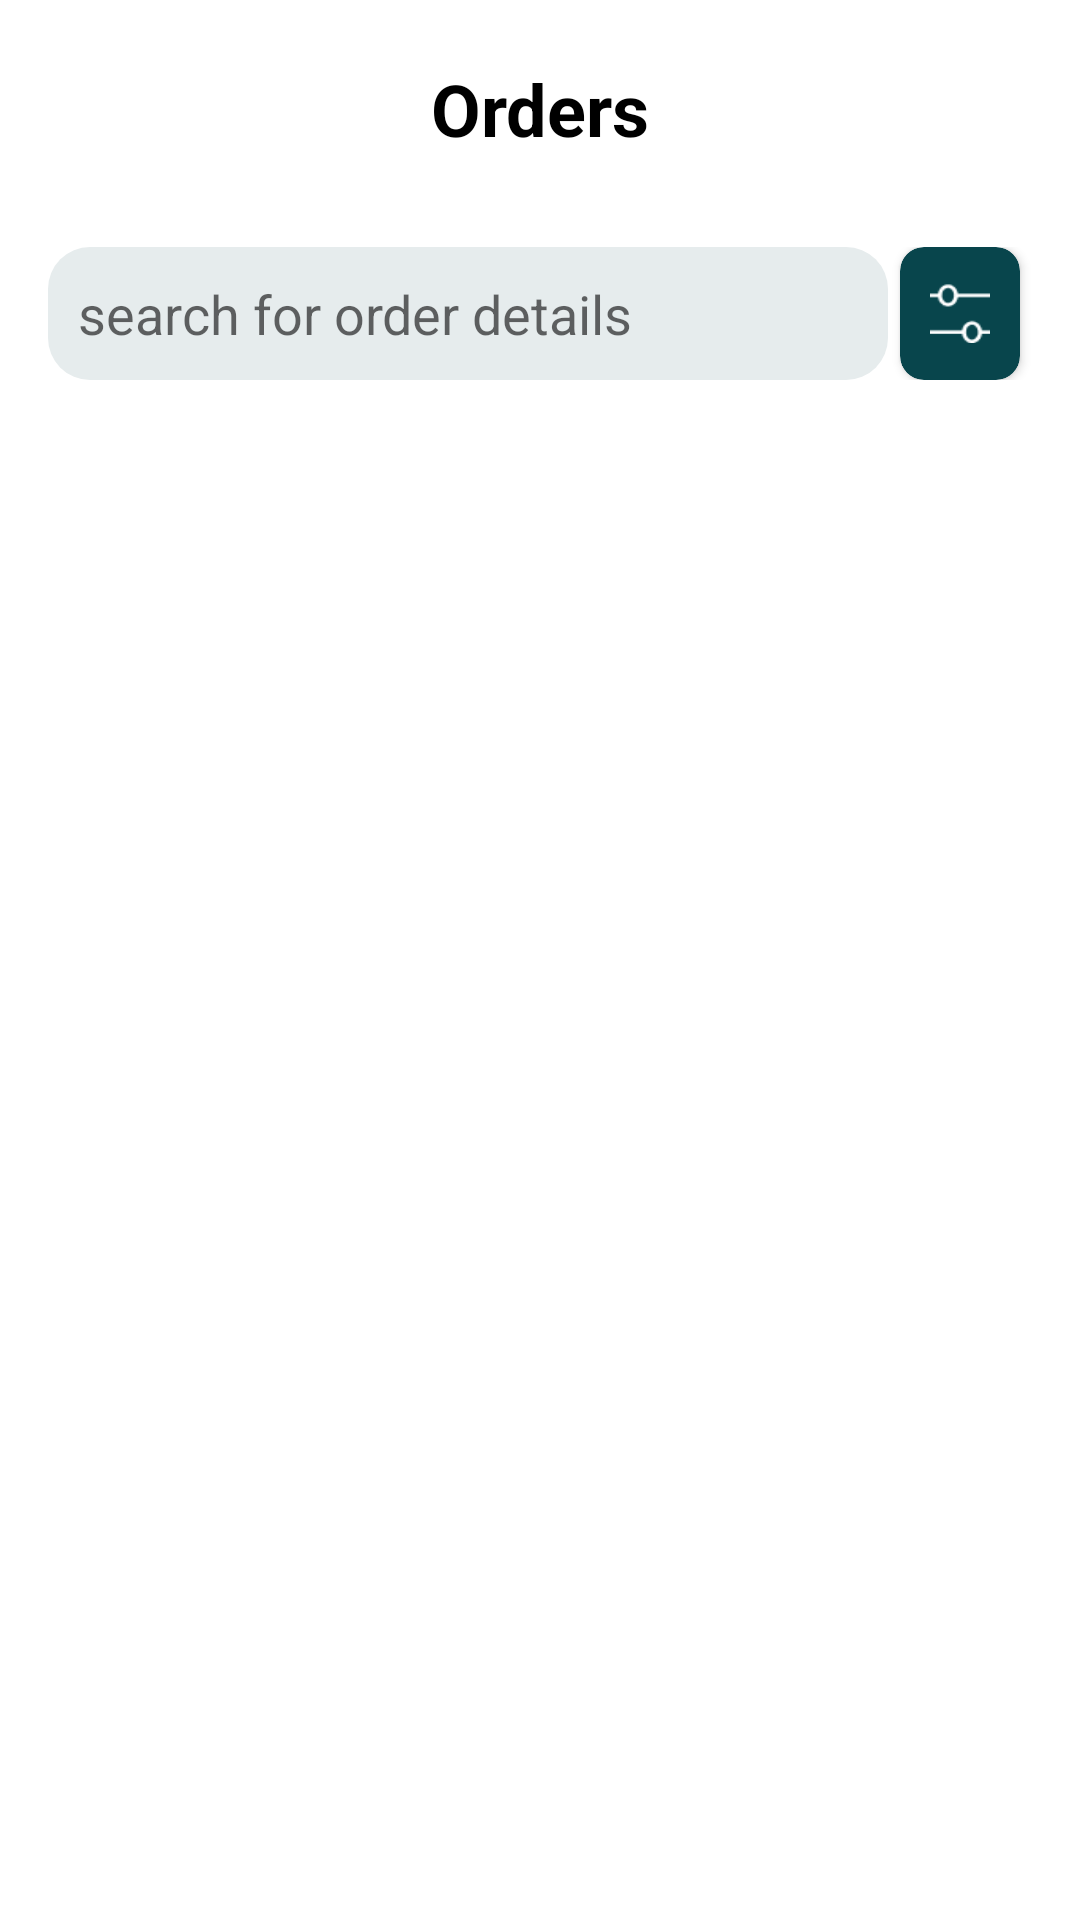

Icon click points for this 1080px×1920px phone screenshot, format (x,y):
filter: (960,313)
